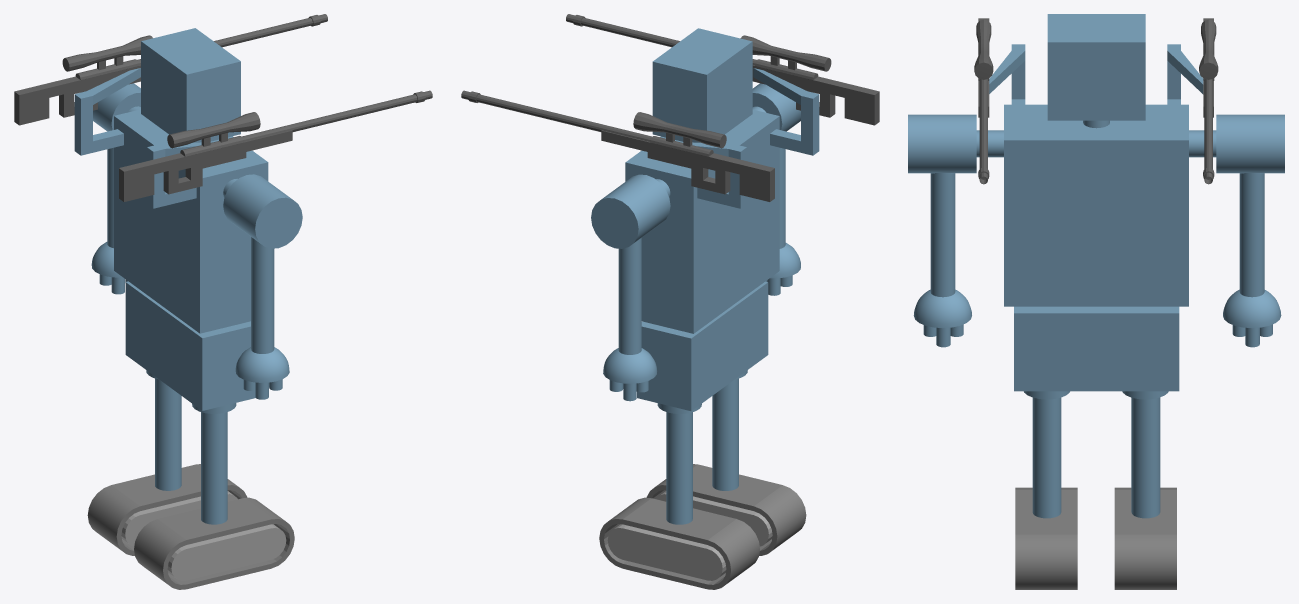
File: Robot (sniper).fbx
3 views of the same model, side by side, from view 1: azimuth 30°, elevation 25°; view 2: azimuth 150°, elevation 25°; view 3: azimuth 270°, elevation 25° (orthographic). The views are drawn at different scales.
Parts seen in each view (by area): view 1: Body_and_Legs, Snipers, Wheels, Head___Head_Joint, Right_Shoulder_Cylinder, Right_arm, Right_Hand, Left_Shoulder_Cylinder, Left_Hand, Left_Arm; view 2: Body_and_Legs, Snipers, Wheels, Head___Head_Joint, Left_Shoulder_Cylinder, Left_Arm, Left_Hand, Right_Shoulder_Cylinder, Right_Hand, Right_arm; view 3: Body_and_Legs, Wheels, Head___Head_Joint, Snipers, Right_Shoulder_Cylinder, Left_Shoulder_Cylinder, Right_arm, Left_Arm, Right_Hand, Left_Hand, Right_arm_joint, Left_Arm_Joint.
Boxes of the visible parts, box(x1,y1,x2,y2) form: Body_and_Legs: box(114, 109, 268, 524); Snipers: box(14, 14, 432, 208); Wheels: box(87, 464, 294, 589); Head___Head_Joint: box(141, 28, 240, 142); Right_Shoulder_Cylinder: box(223, 174, 302, 248); Right_arm: box(251, 237, 274, 353); Right_Hand: box(235, 347, 289, 399); Left_Shoulder_Cylinder: box(93, 83, 140, 131); Left_Hand: box(91, 242, 127, 294); Left_Arm: box(107, 147, 113, 248); Body_and_Legs: box(625, 109, 779, 524); Snipers: box(461, 14, 879, 208); Wheels: box(599, 464, 806, 589); Head___Head_Joint: box(652, 28, 752, 142); Left_Shoulder_Cylinder: box(591, 174, 670, 248); Left_Arm: box(618, 238, 641, 354); Left_Hand: box(603, 348, 657, 401); Right_Shoulder_Cylinder: box(752, 83, 800, 131); Right_Hand: box(765, 243, 800, 295); Right_arm: box(779, 148, 785, 248); Body_and_Legs: box(1004, 104, 1188, 518); Wheels: box(1015, 487, 1176, 589); Head___Head_Joint: box(1047, 14, 1145, 128); Snipers: box(974, 18, 1218, 184); Right_Shoulder_Cylinder: box(908, 114, 976, 173); Left_Shoulder_Cylinder: box(1216, 114, 1284, 173); Right_arm: box(930, 173, 955, 297); Left_Arm: box(1239, 173, 1264, 297); Right_Hand: box(913, 289, 971, 347); Left_Hand: box(1223, 289, 1281, 347); Right_arm_joint: box(976, 130, 1003, 157); Left_Arm_Joint: box(1189, 130, 1216, 157).
Bounding box in the file's own units: 8.14 × 12.57 × 8.
